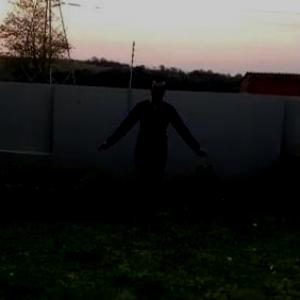land: (94, 66, 208, 231)
